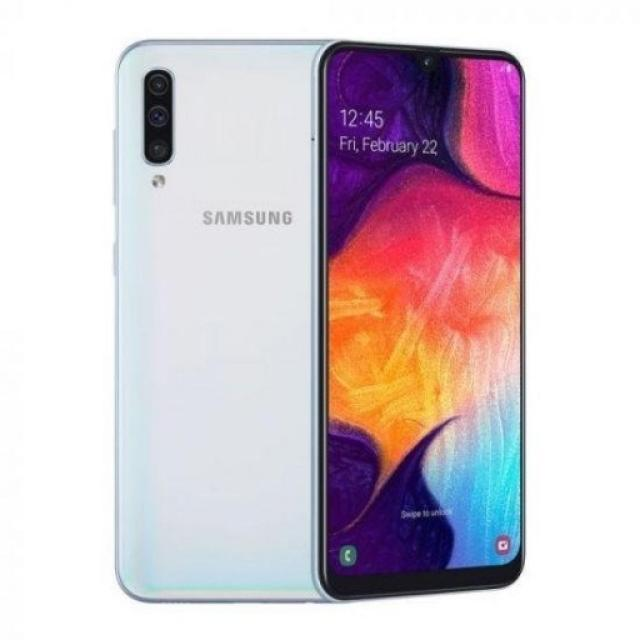lens: (144, 66, 174, 166)
phone: (110, 34, 324, 612), (316, 43, 532, 604)
